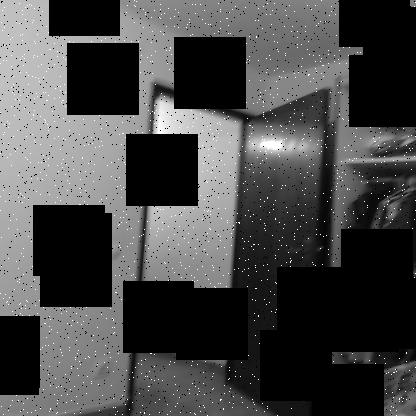Porte: (124, 78, 335, 415)
